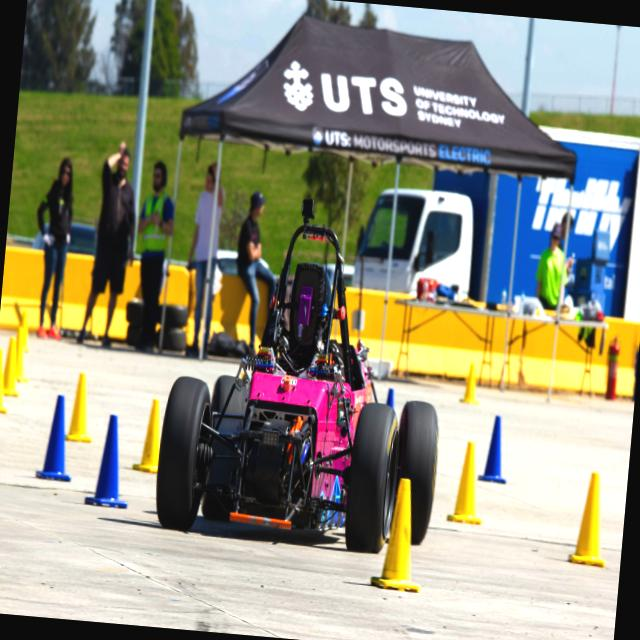blue_cone: (85, 412, 133, 509), (36, 396, 76, 482), (478, 414, 511, 482)
yellow_cone: (370, 476, 428, 591), (568, 472, 612, 565), (447, 441, 488, 524), (132, 397, 166, 473), (64, 372, 96, 442), (1, 336, 24, 396), (8, 328, 32, 382), (460, 362, 480, 405), (0, 348, 11, 413), (16, 310, 32, 352)
